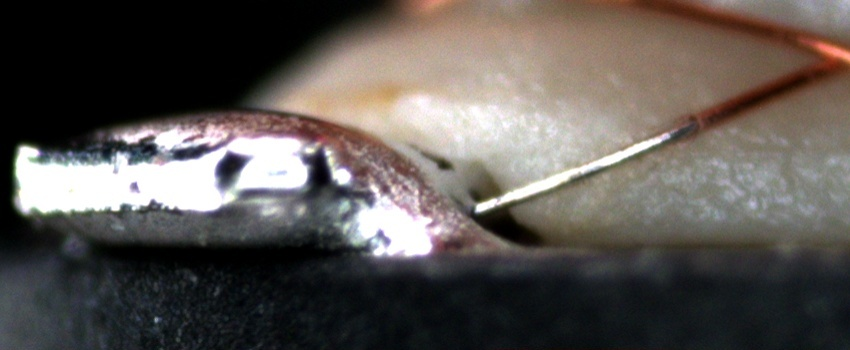DL: (671, 119, 850, 183)
TS: (471, 129, 678, 215)
TTCW: (470, 87, 765, 215)
